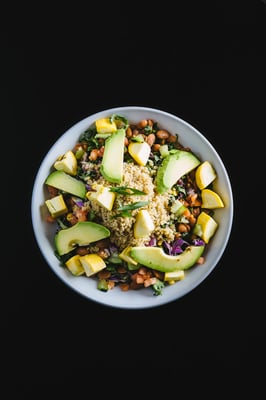sushi: (30, 104, 238, 310)
